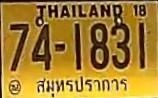1: (138, 22, 144, 68), (74, 23, 80, 69)
3: (110, 22, 129, 68)
4: (31, 23, 51, 70)
7: (9, 23, 28, 70)
8: (90, 22, 108, 68)
SPK: (33, 74, 129, 97)
